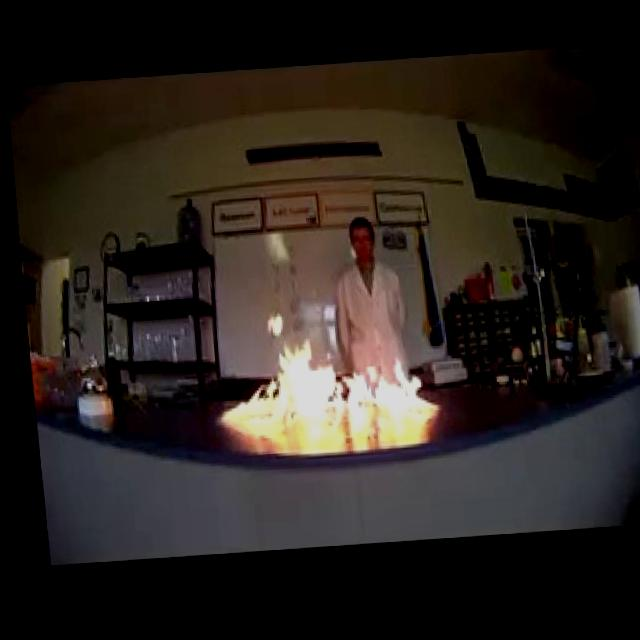helmet: (202, 330, 437, 433)
